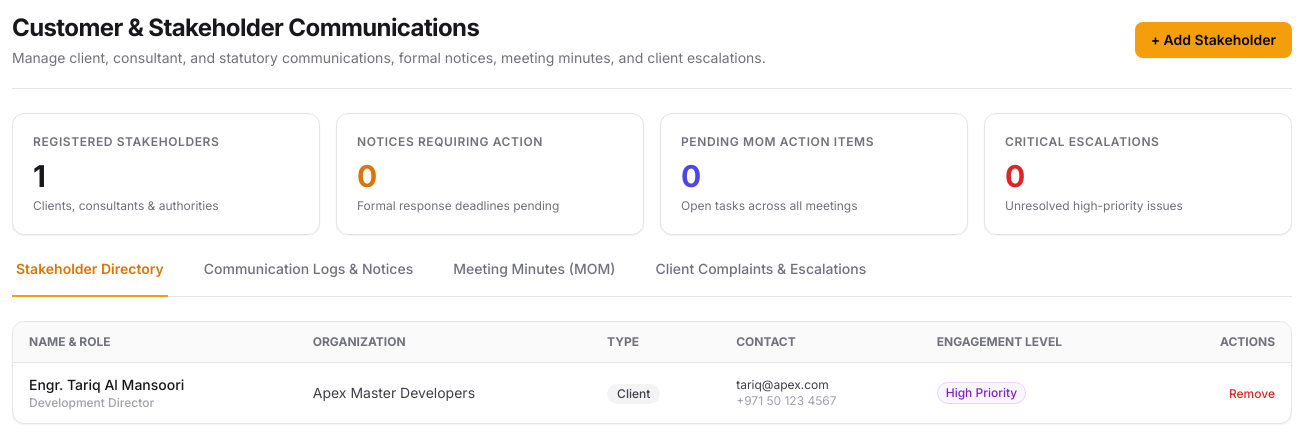
CommunicationsPage › switches to Communication Logs tab and displays correspondence
Click the button "Communication Logs & Notices". click: click(308, 278)
box: [200,259,417,297]
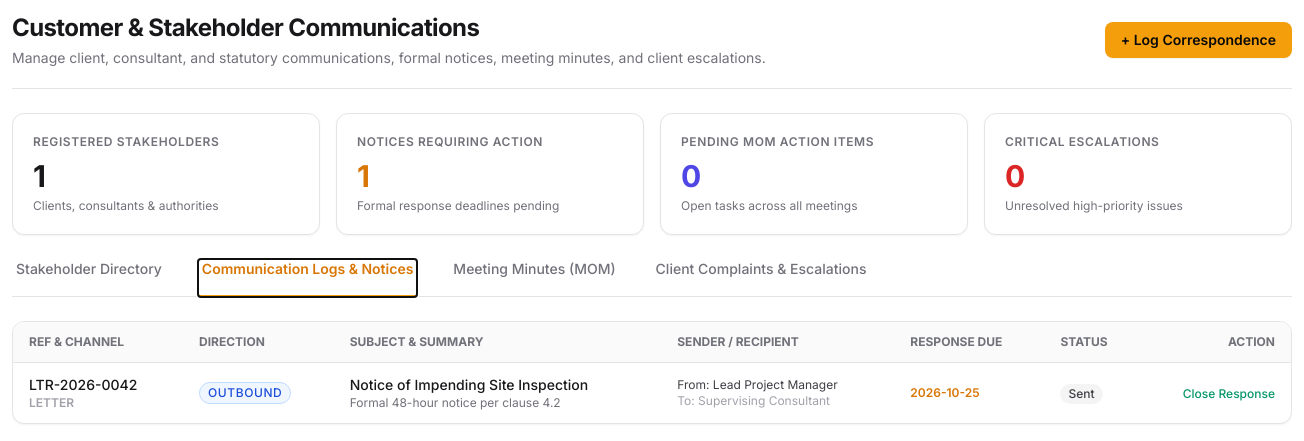
Expected: the text "LTR-2026-0042" is shown, [29,376,137,393]
Expected: the text "Notice of Impending Site Inspection" is shown, [350,376,588,393]
Expected: the button "+ Log Correspondence" is shown, [1105,22,1292,58]
